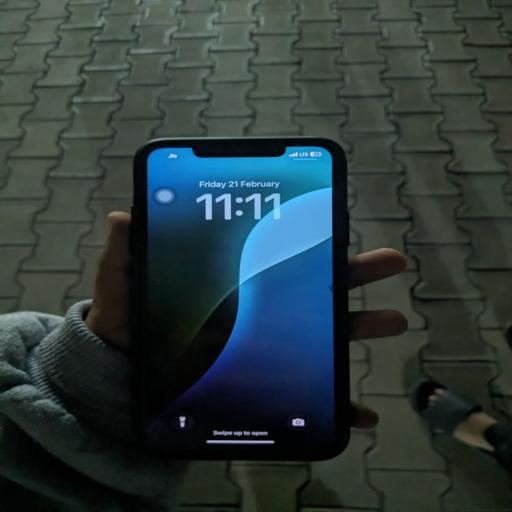people: (131, 138, 350, 460)
